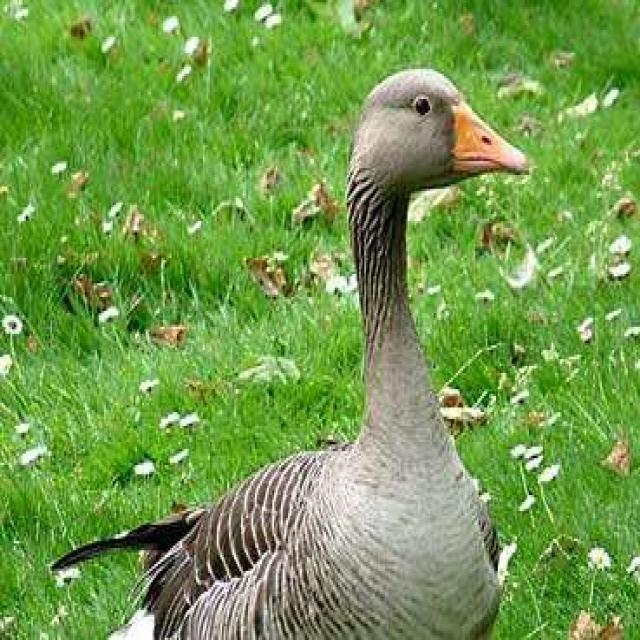Goose: (136, 64, 534, 640)
